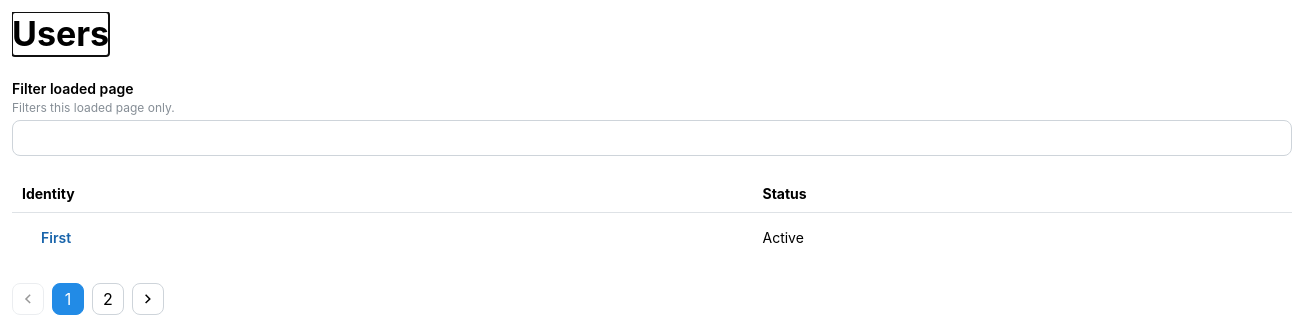
AdministrationPage › loads only the latest collection page and labels local no-match results
This screenshot has width=1304, height=332.
Check: the button "First" is shown, box [41,229,71,246]
Click the button named "Next page" at x=148, y=299, box [132,283,164,315]
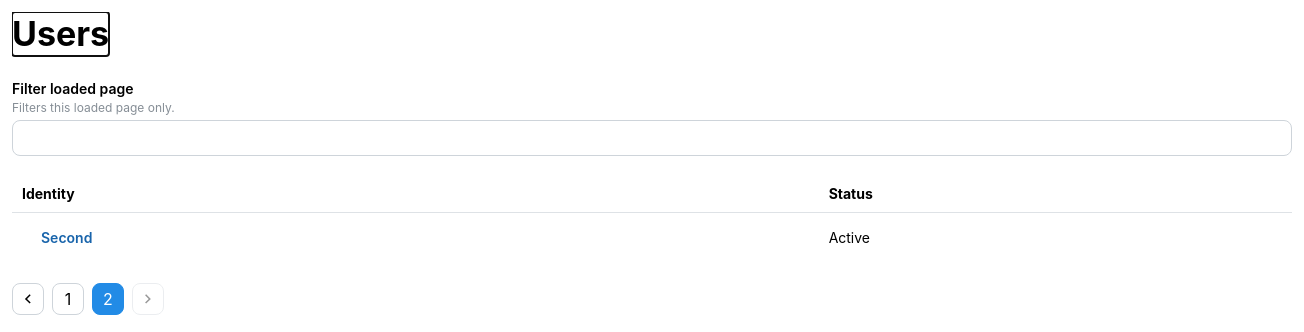
Check: the button "Second" is shown, box [41,229,92,246]
Check: the button "First" is gone
Type "missing" into the field labelled "Filter loaded page" at x=652, y=138, box [12,120,1292,156]
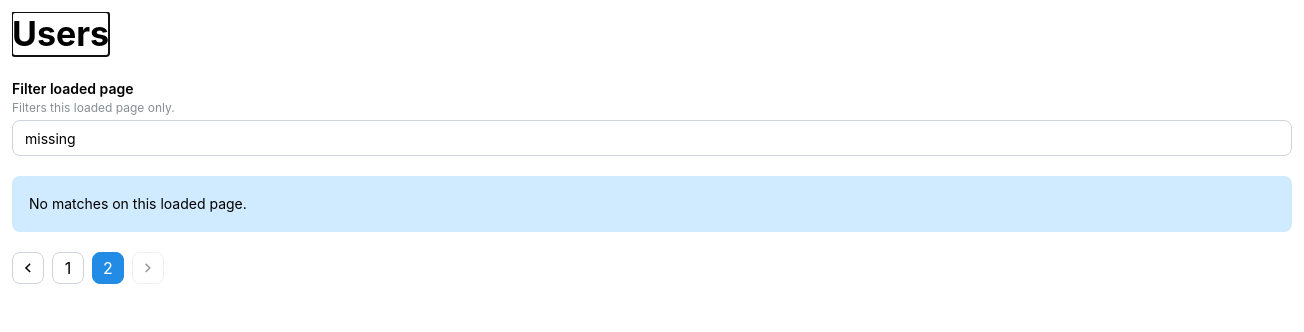
Check: the text "No matches on this loaded page." is shown, box [29,195,247,212]
